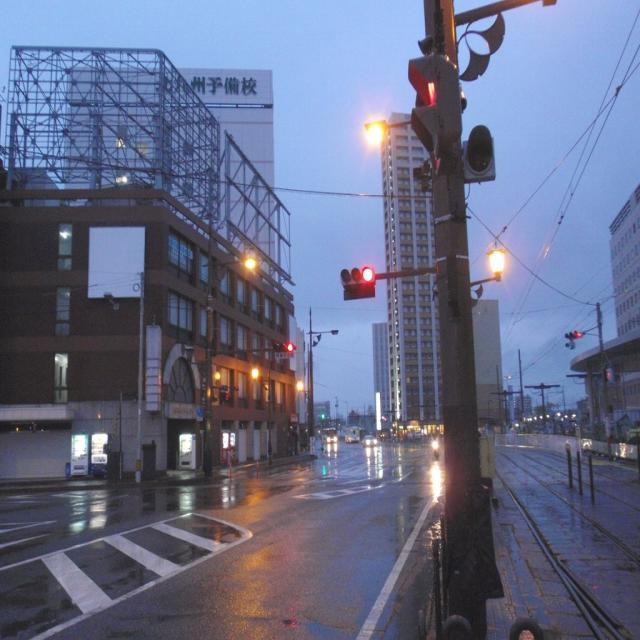traffic light: (405, 53, 462, 168), (339, 267, 376, 287)
